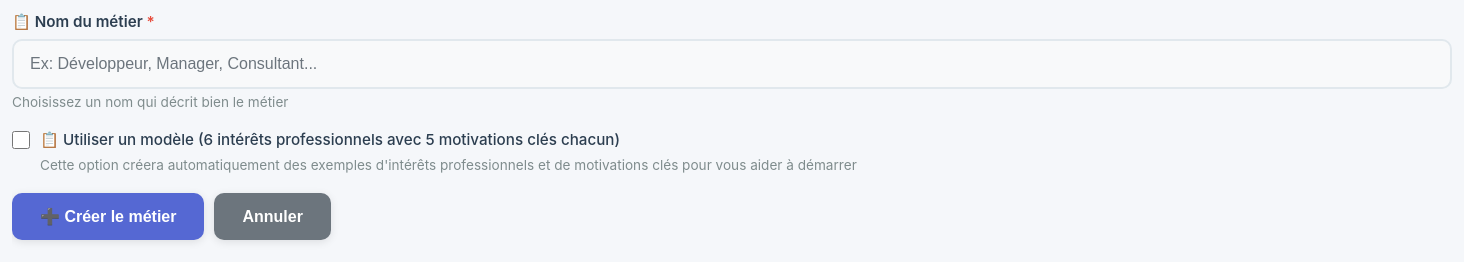
Scenario: ProfessionForm › should reset form after submission
The width and height of the screenshot is (1464, 262).
Type "Test Profession" into the field labelled "📋 Nom du métier *" at [732, 64], box [12, 39, 1452, 89]
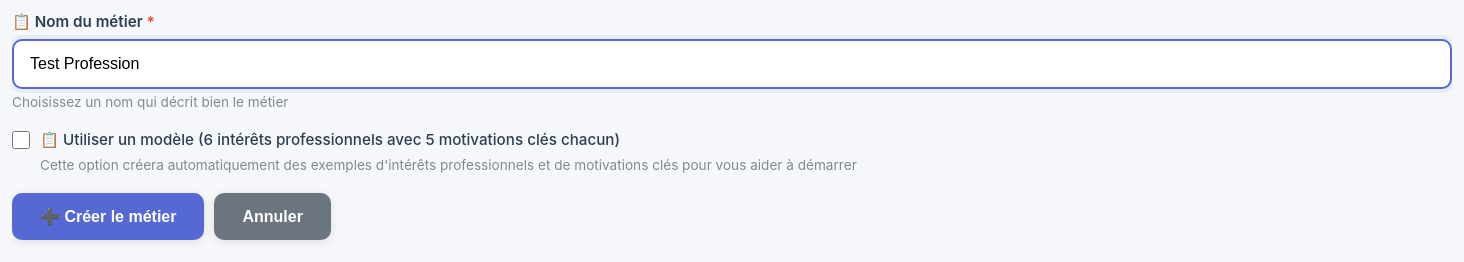
Click the checkbox labelled "Utiliser un modèle" at [21, 140], box [12, 130, 30, 148]
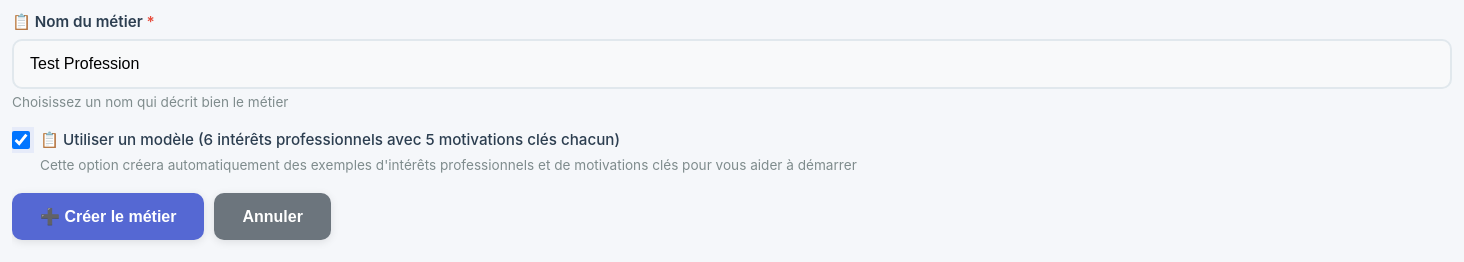
Click the button "➕ Créer le métier" at [108, 216], box [12, 193, 204, 240]
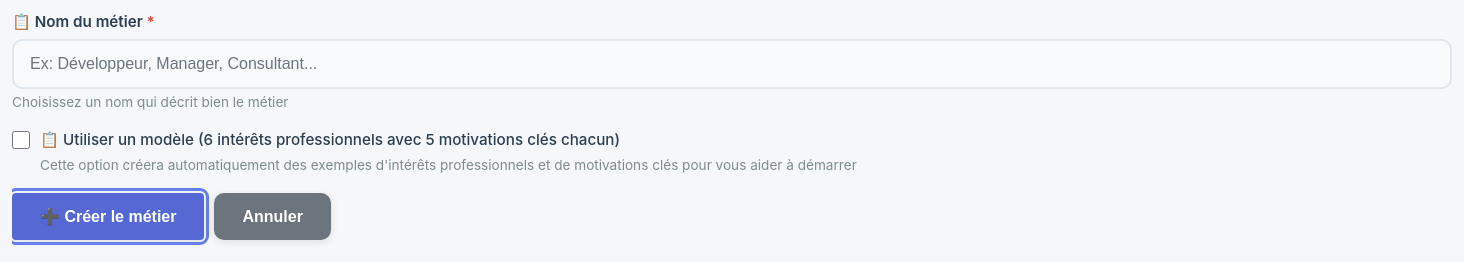
expect the checkbox labelled "Utiliser un modèle" is not checked: met, box [12, 130, 30, 148]
expect the field labelled "📋 Nom du métier *" is empty: met, box [12, 39, 1452, 89]
